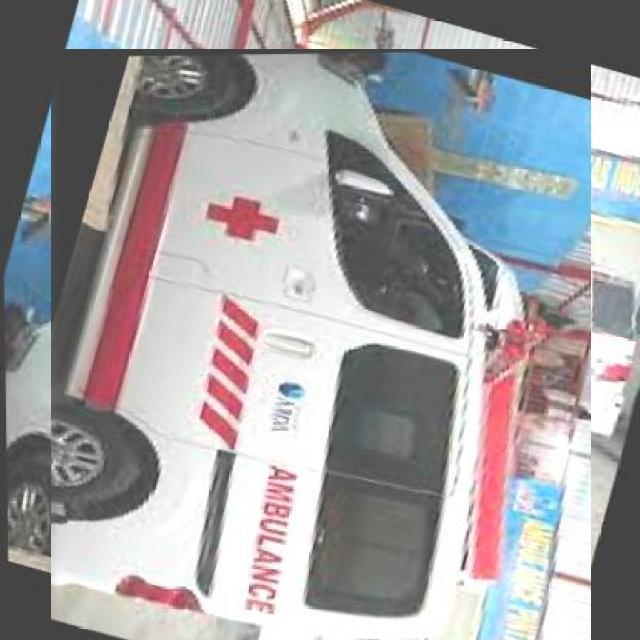emergency-vehicle: (25, 73, 615, 640)
